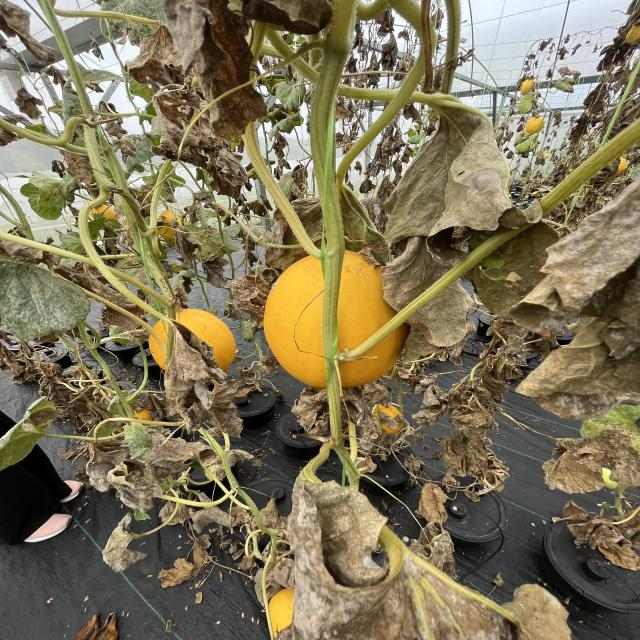bacterial wilt: (271, 476, 497, 640), (380, 92, 524, 239), (158, 0, 284, 136), (529, 172, 640, 302), (526, 300, 640, 392), (0, 258, 85, 350), (532, 424, 640, 493), (554, 501, 640, 570), (156, 133, 256, 189), (160, 326, 226, 401), (445, 422, 509, 495), (406, 279, 473, 347), (225, 0, 336, 32), (122, 427, 203, 467), (128, 38, 181, 78), (0, 4, 41, 51), (34, 171, 78, 213), (104, 516, 137, 568), (292, 394, 329, 427), (611, 16, 640, 55), (354, 243, 394, 270), (167, 554, 202, 584), (491, 342, 523, 372), (190, 508, 227, 532), (172, 226, 200, 256), (202, 256, 234, 282), (184, 193, 217, 218), (18, 88, 45, 115), (378, 37, 399, 70), (582, 81, 604, 110), (597, 42, 617, 70), (391, 157, 406, 179), (401, 147, 415, 162)
